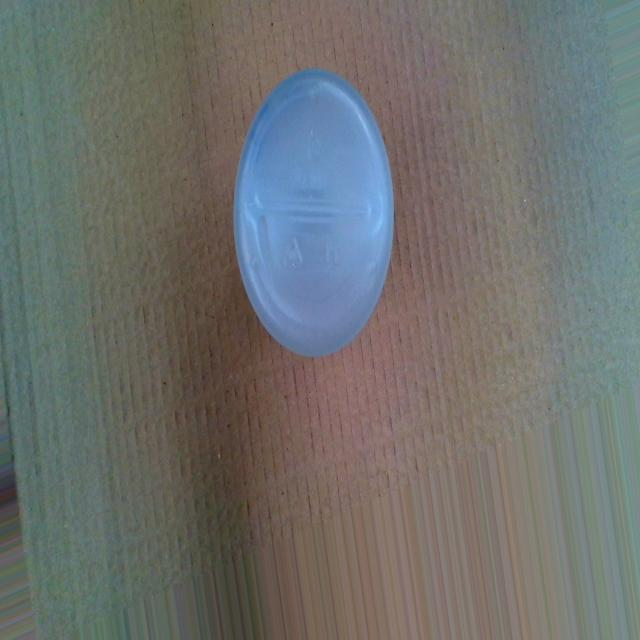bottle: (232, 66, 398, 362)
